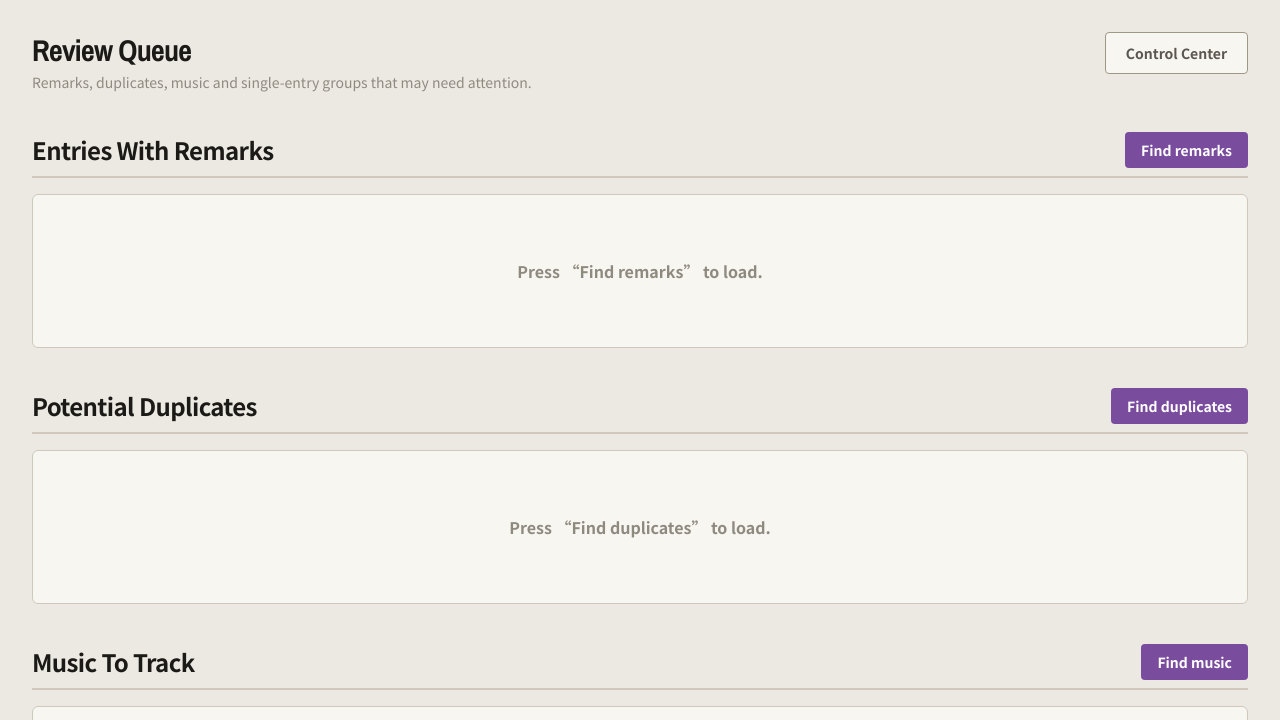
shows an empty music block once it has loaded
The image size is (1280, 720).
Click the button "Find music" at (1195, 662), box [1141,644,1248,680]
(page scrolled)
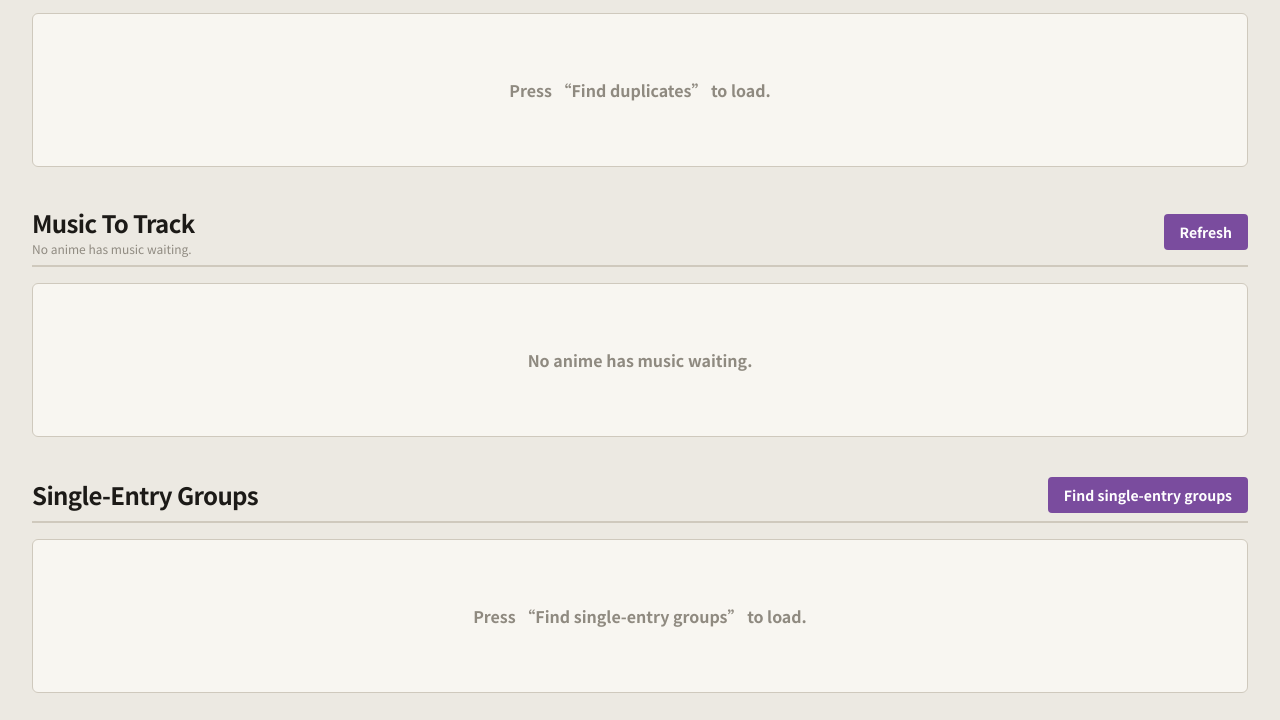
Expected: the 2nd text "No anime has music waiting." is shown, [528,348,752,372]
